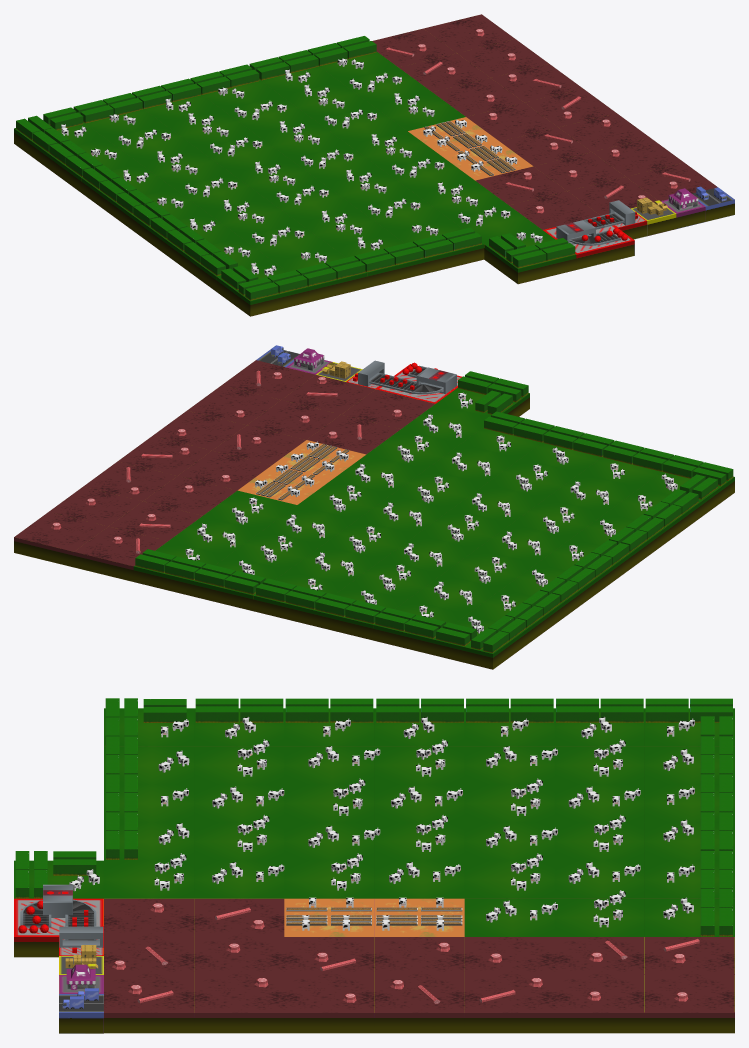
File: beefscene06.gltf
3 renders of one model, top to bottom at view 1: azimuth 30°, elevation 25°; view 2: azimuth 150°, elevation 25°; view 3: azimuth 270°, elevation 25°, orthographic. The views are drawn at different scales.
Visible parts, largest first — view 1: bLand.011, bLand.010, bLand.004, bLand.015, bLand.006, bLand.014, bLand.003, bLand.008, bLand.013, bLand.002, bFarm.038, bLand.005 (+50 smaller); view 2: bLand.015, bLand.001, bLand.006, bLand.008, bLand.010, bLand.004, bLand.003, bLand.014, bLand.011, bLand.012, bLand.009, bLand.005 (+47 smaller); view 3: bLand.014, bLand.011, bLand.010, bLand.015, bLand.013, bLand.009, bLand.012, bLand.008, bLand.004, bLand.006, bLand.003, bLand (+64 smaller).
Part boxes in pixels (x1=…): bLand.011: x1=558, y1=113, x2=650, y2=151; bLand.010: x1=592, y1=138, x2=683, y2=176; bLand.004: x1=432, y1=78, x2=523, y2=116; bLand.015: x1=423, y1=14, x2=514, y2=52; bLand.006: x1=534, y1=152, x2=625, y2=190; bLand.014: x1=457, y1=39, x2=548, y2=77; bLand.003: x1=466, y1=102, x2=557, y2=141; bLand.008: x1=509, y1=191, x2=600, y2=229; bLand.013: x1=525, y1=88, x2=616, y2=127; bLand.002: x1=399, y1=53, x2=490, y2=91; bFarm.038: x1=484, y1=230, x2=576, y2=284; bLand.005: x1=500, y1=127, x2=591, y2=166; bLand.015: x1=14, y1=512, x2=107, y2=567; bLand.001: x1=74, y1=526, x2=167, y2=581; bLand.006: x1=247, y1=400, x2=340, y2=439; bLand.008: x1=341, y1=389, x2=434, y2=428; bLand.010: x1=187, y1=385, x2=280, y2=425; bLand.004: x1=143, y1=476, x2=236, y2=515; bLand.003: x1=178, y1=450, x2=271, y2=490; bLand.014: x1=49, y1=486, x2=142, y2=526; bLand.011: x1=153, y1=411, x2=245, y2=450; bLand.012: x1=83, y1=461, x2=176, y2=500; bLand.009: x1=221, y1=360, x2=315, y2=399; bLand.005: x1=212, y1=425, x2=305, y2=464; bLand.014: x1=554, y1=975, x2=644, y2=1033; bLand.011: x1=284, y1=975, x2=374, y2=1033; bLand.010: x1=194, y1=975, x2=284, y2=1033; bLand.015: x1=645, y1=975, x2=734, y2=1033; bLand.013: x1=374, y1=975, x2=464, y2=1033; bLand.009: x1=104, y1=975, x2=194, y2=1033; bLand.012: x1=464, y1=975, x2=554, y2=1033; bLand.008: x1=104, y1=898, x2=194, y2=936; bLand.004: x1=464, y1=937, x2=554, y2=974; bLand.006: x1=194, y1=937, x2=284, y2=974; bLand.003: x1=374, y1=937, x2=464, y2=974; bLand: x1=194, y1=898, x2=284, y2=936.
Size of the model in its own units: 16 by 0.9425 by 16.
Materials: 1 (1 with a texture image).
